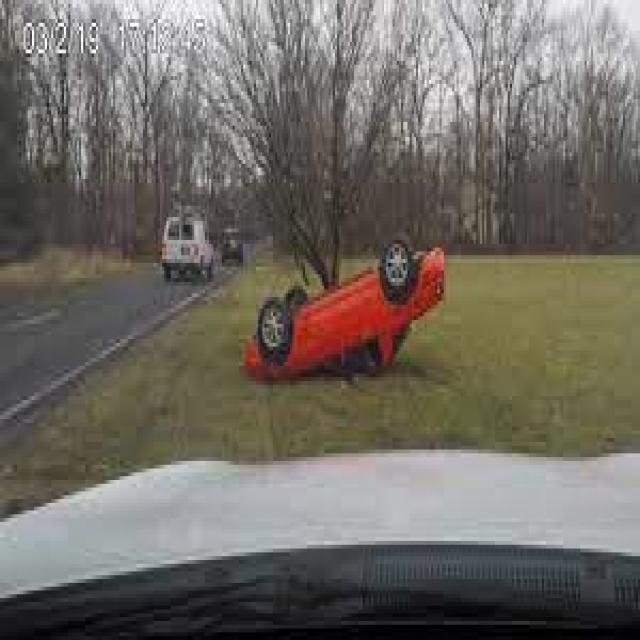severe: (241, 228, 448, 388)
